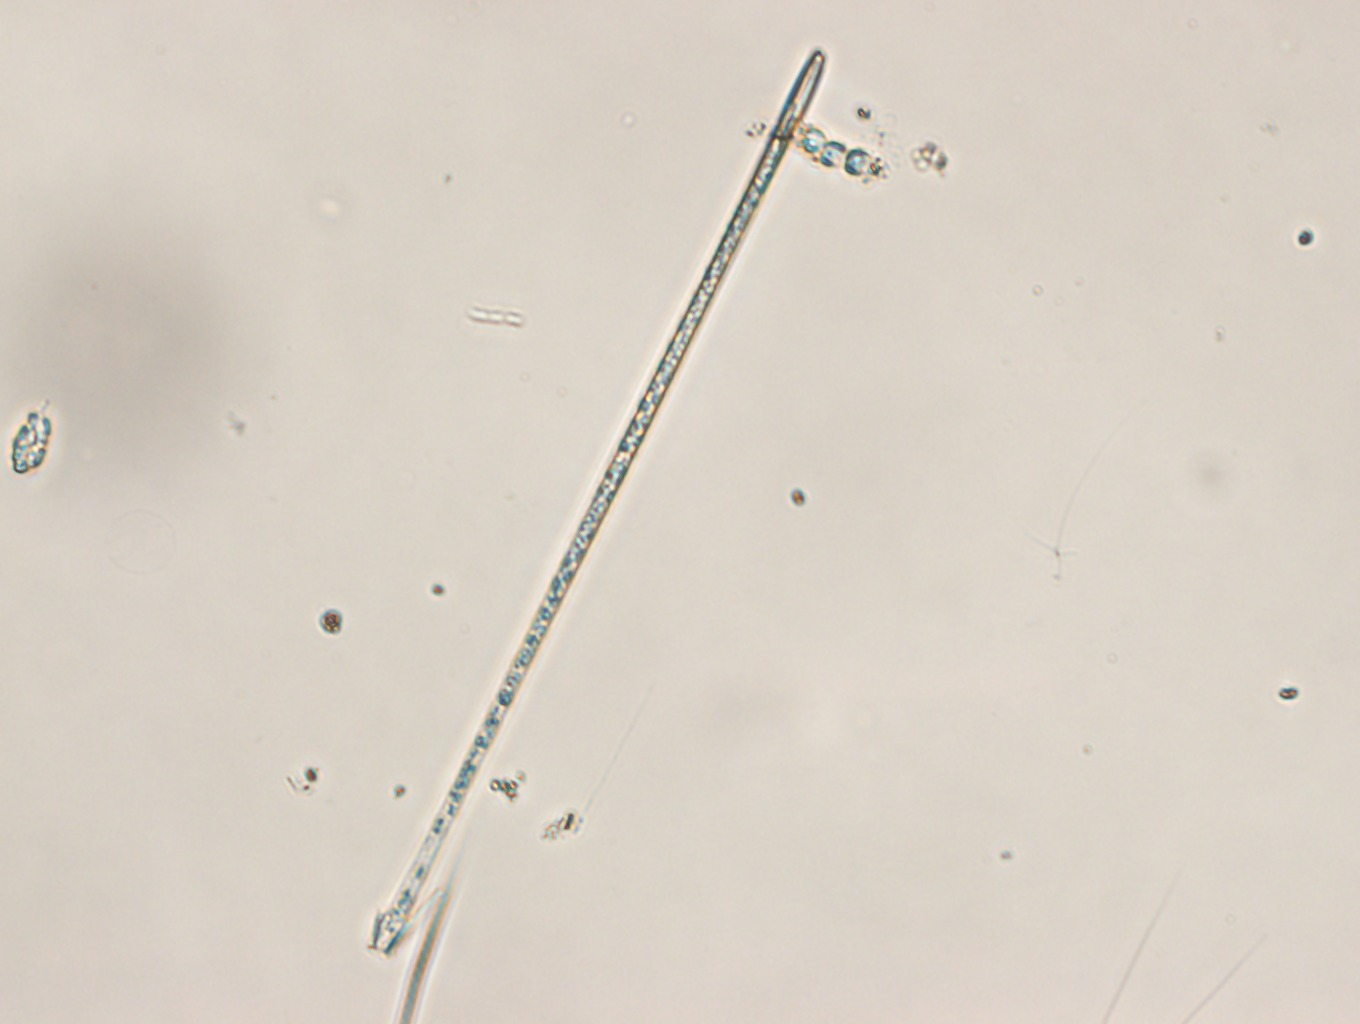thalassionema frauenfeldii: (370, 42, 831, 952)
